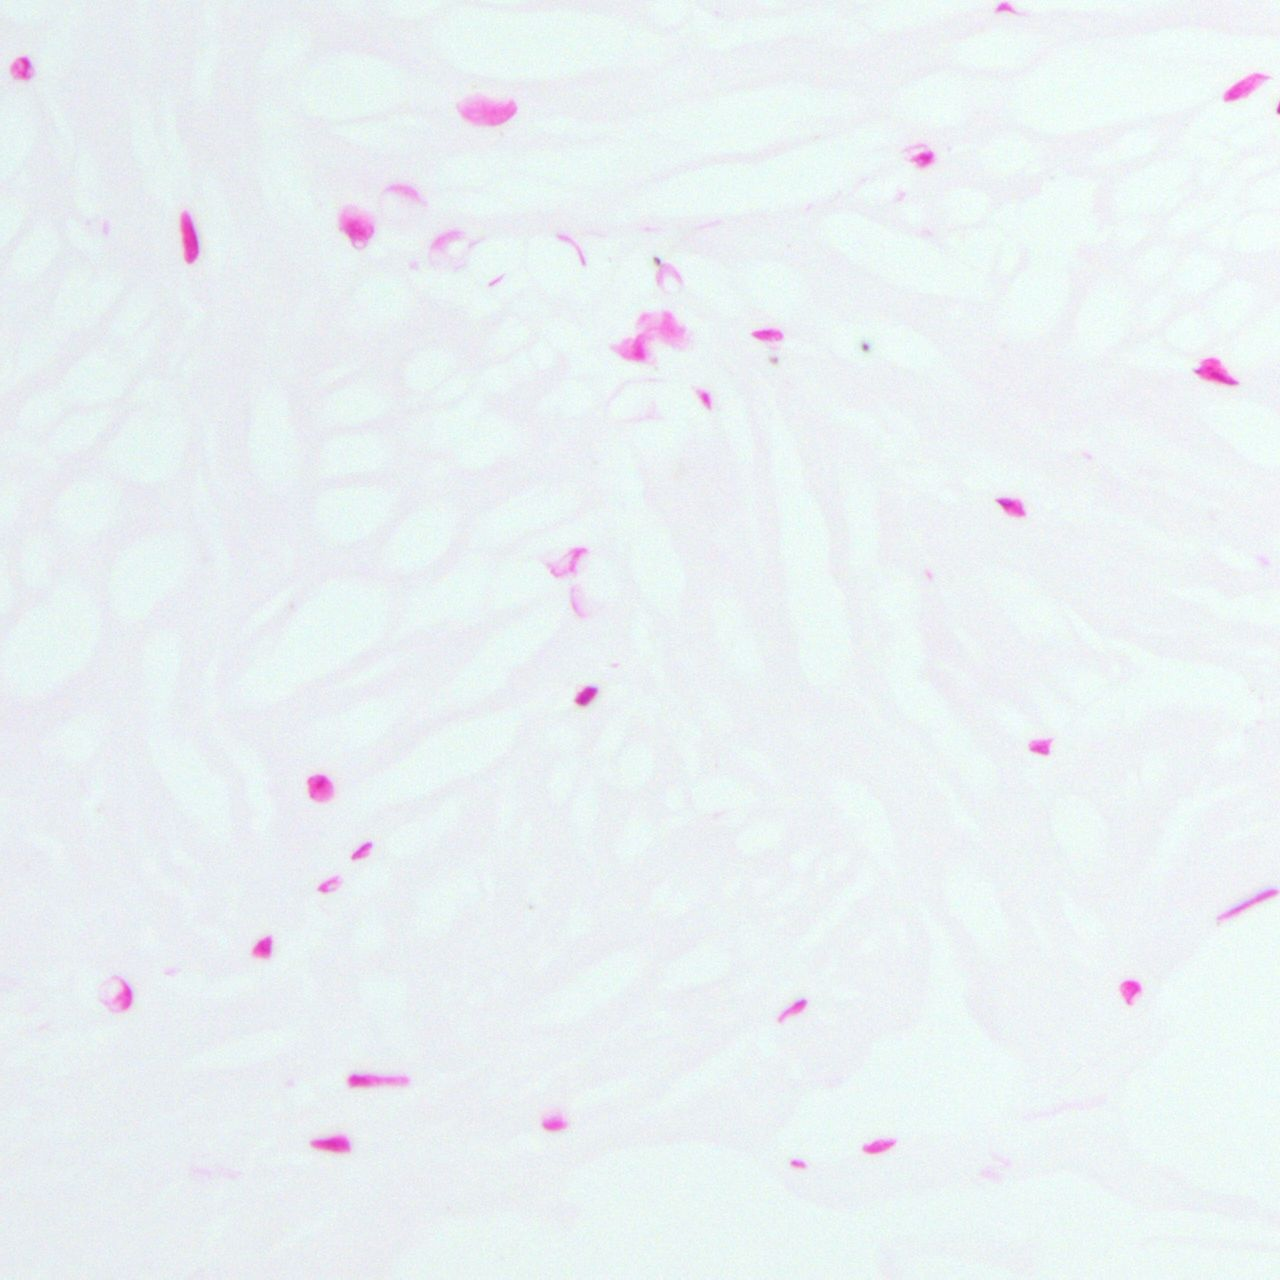dust: (653, 254, 660, 265), (863, 342, 869, 350)
nucleus-FG: (1192, 354, 1244, 387), (176, 209, 200, 263), (348, 1074, 408, 1087), (573, 680, 599, 708), (350, 840, 374, 863)
